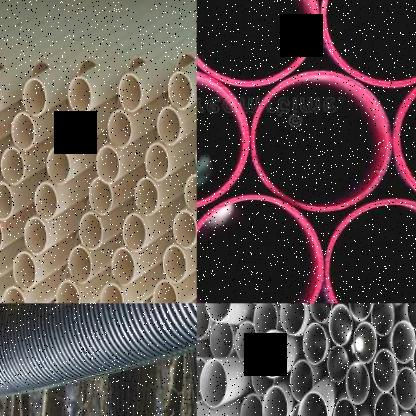pipe: (250, 70, 391, 213), (197, 195, 325, 303), (196, 0, 318, 87), (324, 198, 416, 303), (319, 0, 416, 87), (197, 70, 247, 210), (392, 66, 416, 213), (259, 330, 286, 378), (200, 360, 226, 409), (372, 350, 397, 392), (392, 320, 415, 364), (235, 320, 259, 362), (346, 362, 370, 404), (290, 360, 314, 402), (173, 208, 197, 249), (328, 304, 352, 345), (0, 147, 25, 186), (117, 73, 142, 112), (303, 323, 326, 365), (354, 321, 377, 363), (12, 250, 36, 290), (122, 213, 146, 253), (134, 176, 158, 216), (78, 212, 103, 250), (394, 367, 416, 410), (162, 244, 186, 283), (34, 182, 58, 221), (46, 146, 70, 185), (23, 78, 47, 117), (168, 71, 192, 110), (144, 144, 169, 181), (111, 248, 135, 286), (89, 178, 113, 216), (11, 112, 35, 150), (57, 112, 81, 150), (252, 357, 275, 396), (96, 146, 119, 184), (108, 110, 131, 148), (157, 107, 180, 145), (68, 76, 91, 114), (210, 322, 234, 358), (253, 303, 277, 339), (327, 345, 349, 384), (69, 247, 92, 284), (24, 217, 47, 254), (280, 303, 304, 335), (297, 391, 327, 416), (262, 386, 287, 416), (372, 303, 394, 335), (374, 392, 398, 416), (183, 173, 197, 213), (55, 281, 79, 303), (0, 181, 13, 220), (153, 281, 176, 303), (205, 303, 231, 322), (241, 394, 263, 416), (100, 284, 124, 303), (309, 303, 332, 322), (333, 397, 356, 416), (197, 303, 209, 339), (1, 286, 26, 303), (197, 358, 206, 404), (348, 303, 372, 320), (407, 303, 416, 331), (413, 338, 416, 380), (0, 216, 3, 254)
